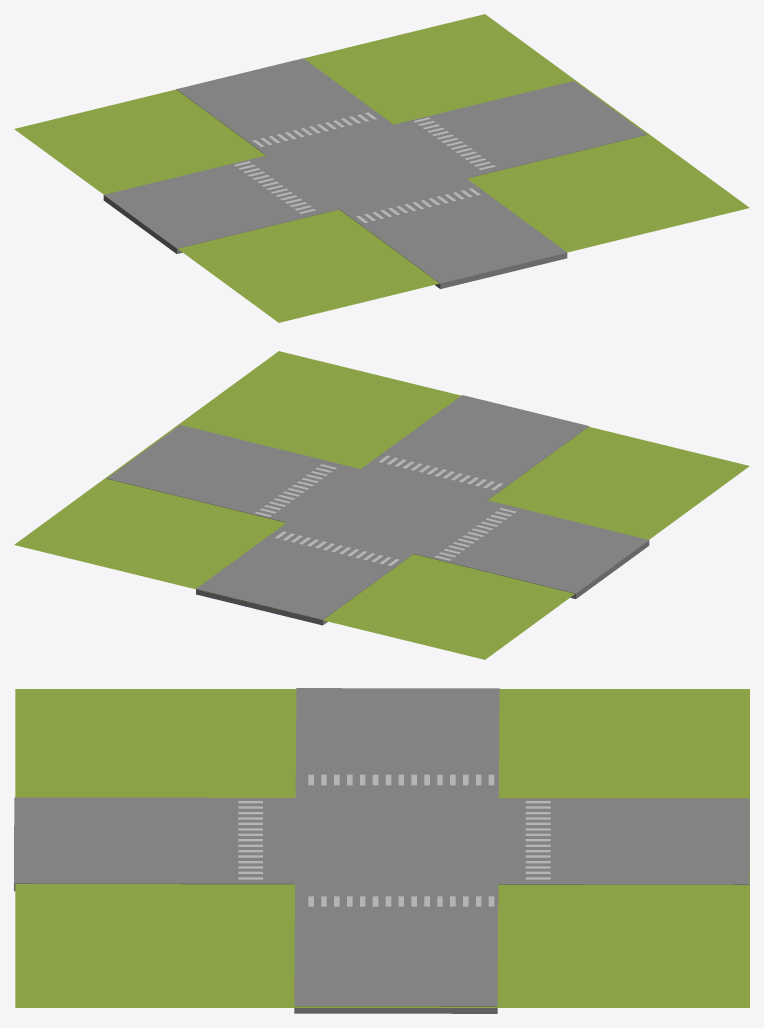
Rendered from street.fbx.
3 views of the same model, one above another, from view 1: azimuth 30°, elevation 25°; view 2: azimuth 150°, elevation 25°; view 3: azimuth 270°, elevation 25° (orthographic). The views are drawn at different scales.
Parts seen in each view (by area): view 1: floor, road, Object010; view 2: floor, road, Object010; view 3: floor, road, Object010.
Boxes of the visible parts, box(x1,y1,x2,y2) form: floor: box(14, 14, 749, 322); road: box(103, 58, 647, 288); Object010: box(234, 112, 495, 222); floor: box(14, 351, 749, 659); road: box(107, 395, 649, 625); Object010: box(255, 455, 516, 566); floor: box(15, 689, 749, 1007); road: box(14, 688, 749, 1013); Object010: box(238, 774, 550, 906).
Size of the model in its own units: 9686 by 112 by 9437.
